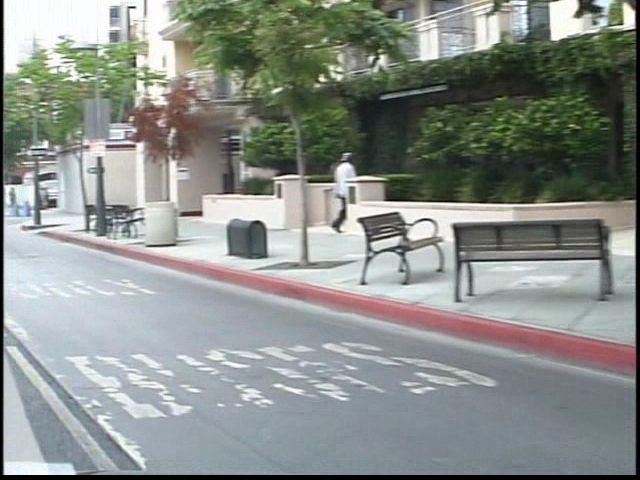person: (310, 145, 337, 236)
